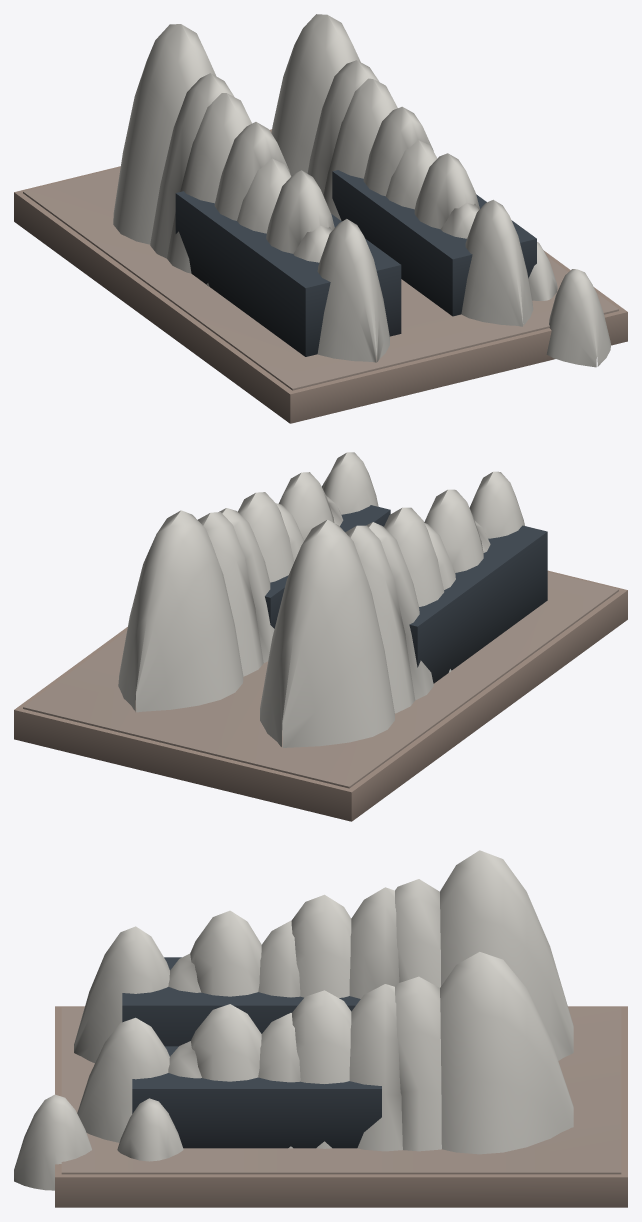
File: oper.glb
3 renders of one model, top to bottom at view 1: azimuth 30°, elevation 25°; view 2: azimuth 150°, elevation 25°; view 3: azimuth 270°, elevation 25°, orthographic. The views are drawn at different scales.
Visible parts, largest first — view 1: lack; view 2: lack; view 3: lack.
Boxes of the visible parts, bbox=[...] form: lack: bbox=[14, 14, 627, 423]; lack: bbox=[14, 452, 627, 821]; lack: bbox=[14, 850, 627, 1207].
Bounding box in the file's own units: 120 × 76.94 × 182.
